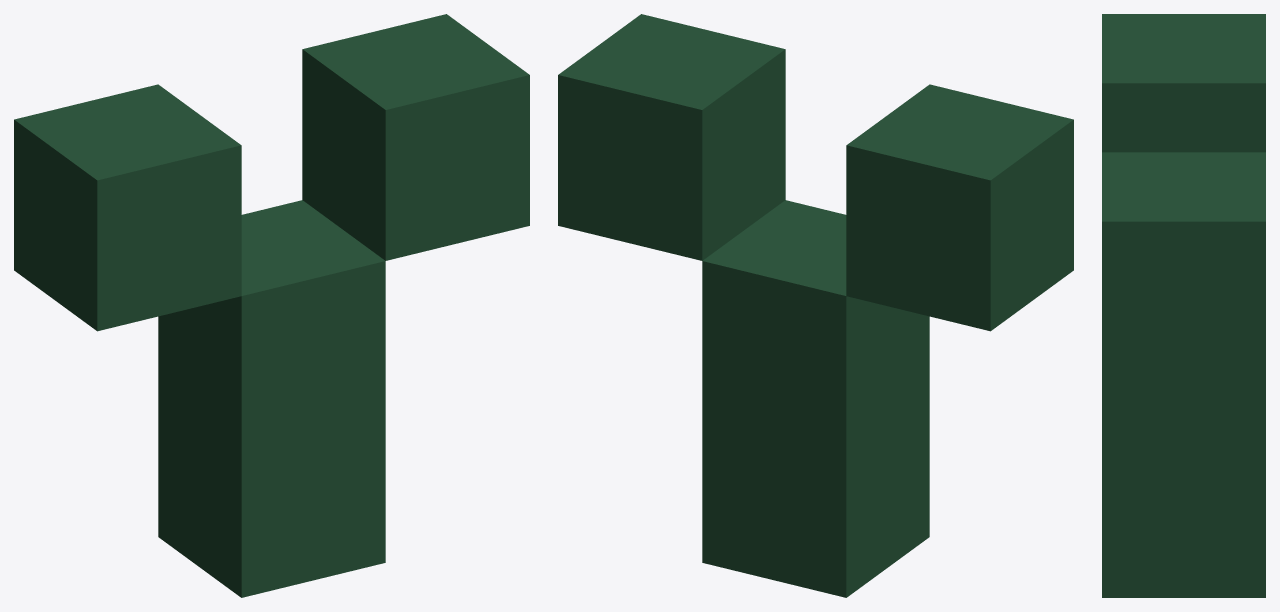
File: farm-38-root_growth2.obj
3 renders of one model, left to right at view 1: azimuth 30°, elevation 25°; view 2: azimuth 150°, elevation 25°; view 3: azimuth 270°, elevation 25°, orthographic.
Visible parts, largest first — view 1: root_growth2; view 2: root_growth2; view 3: root_growth2.
Boxes of the visible parts, bbox=[...] form: root_growth2: bbox=[14, 14, 529, 597]; root_growth2: bbox=[558, 14, 1073, 597]; root_growth2: bbox=[1102, 14, 1265, 597].
Size of the model in its own units: 0.3 by 0.3 by 0.1.
Materials: 1 (1 with a texture image).
